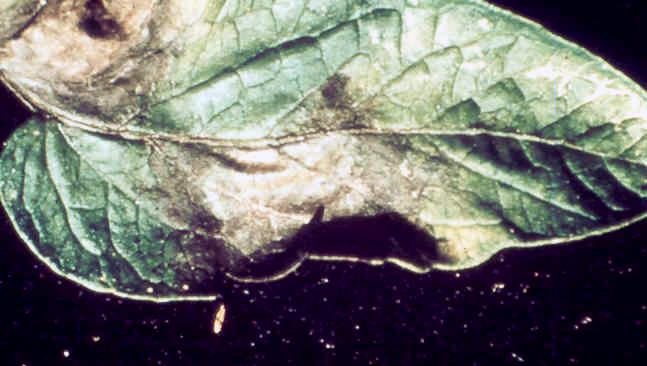Tomato leaf late blight: (0, 0, 647, 321)
